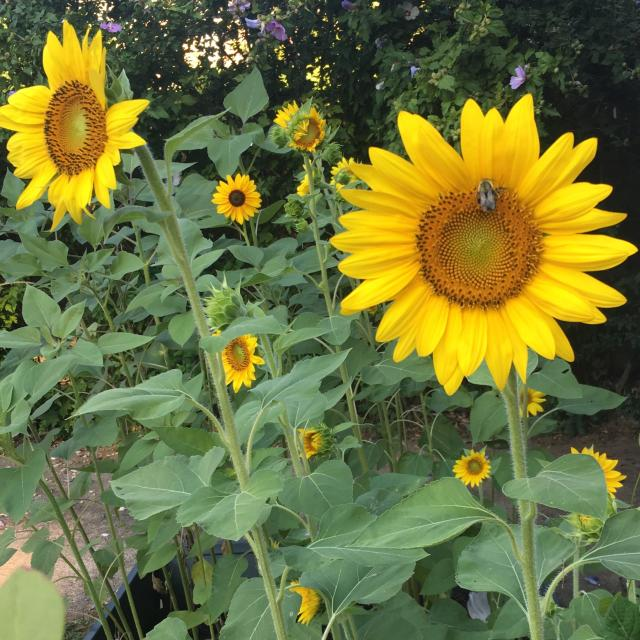sunflower: (315, 84, 640, 404), (5, 21, 178, 239), (204, 318, 272, 393), (207, 173, 267, 227), (446, 442, 494, 486)
